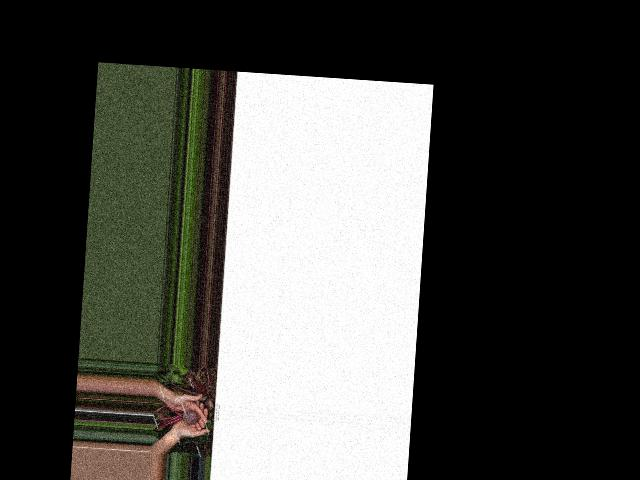beet: (153, 403, 200, 434)
